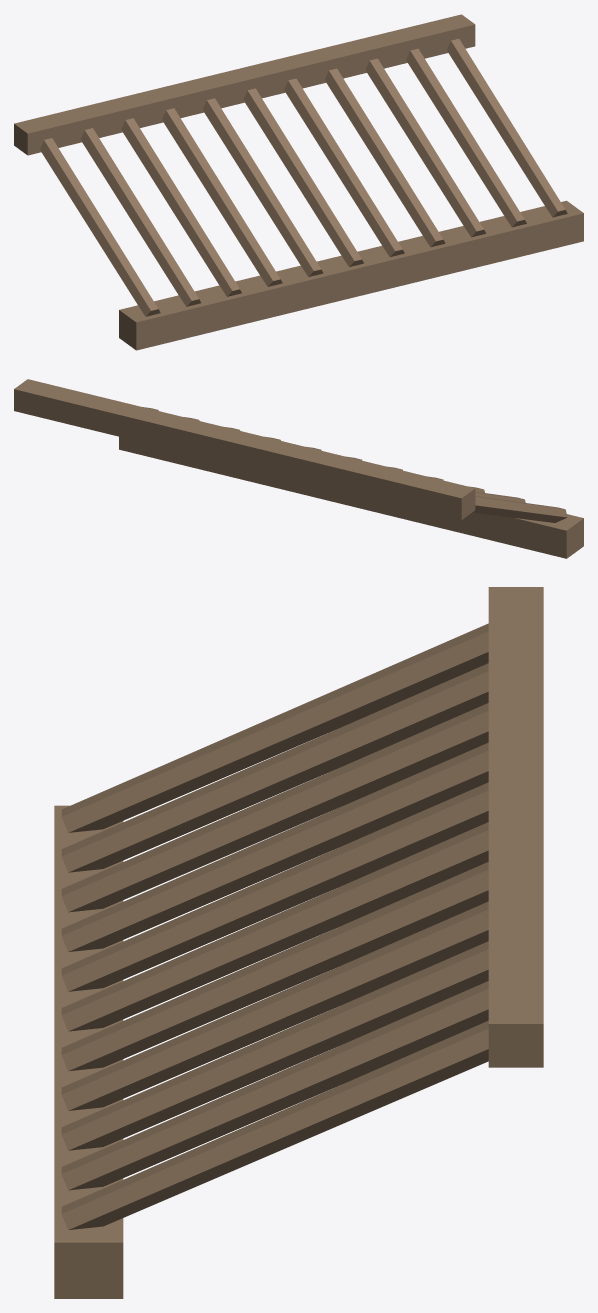
Rendered from korean-hanok-village-and-street-exposed-rafter-set-2923ce1a__38043.glb.
3 renders of one model, top to bottom at view 1: azimuth 30°, elevation 25°; view 2: azimuth 150°, elevation 25°; view 3: azimuth 270°, elevation 25°, orthographic. The views are drawn at different scales.
Parts seen in each view (by area): view 1: exposed-rafter-set; view 2: exposed-rafter-set; view 3: exposed-rafter-set.
Boxes of the visible parts, <box> form: exposed-rafter-set: <box>14,14,583,350</box>; exposed-rafter-set: <box>14,379,583,558</box>; exposed-rafter-set: <box>54,587,543,1298</box>.
Bounding box in the file's own units: 3 × 0.8801 × 1.42.
